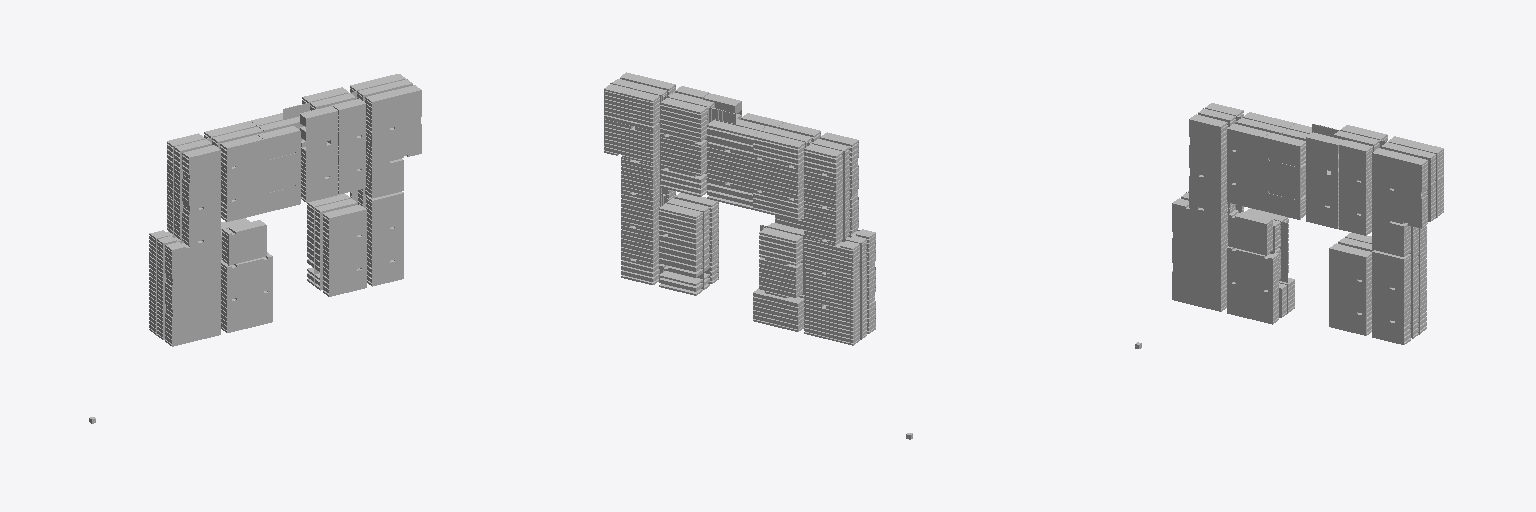
File: MAG_ArkivenesHus.obj
The picture shows the model from 3 angles: view 1: azimuth 30°, elevation 25°; view 2: azimuth 150°, elevation 25°; view 3: azimuth 330°, elevation 25°; orthographic projection.
Visible parts, largest first — view 1: Lys, Statsarkivet, Stavanger_kommu, IKA_Rogaland, Disponibelt, Arkivgulv, Misjonsarkivet; view 2: Stavanger_kommu, IKA_Rogaland, Statsarkivet, Spesialarkiv, Arkivgulv, Disponibelt; view 3: Lys, Statsarkivet, IKA_Rogaland, Stavanger_kommu, Disponibelt, Arkivgulv, Misjonsarkivet.
Boxes of the visible parts, x1=… form: Lys: x1=163, y1=83, x2=421, y2=346; Statsarkivet: x1=165, y1=85, x2=420, y2=345; Stavanger_kommu: x1=149, y1=87, x2=354, y2=339; IKA_Rogaland: x1=307, y1=74, x2=411, y2=289; Disponibelt: x1=222, y1=204, x2=365, y2=296; Arkivgulv: x1=156, y1=79, x2=407, y2=335; Misjonsarkivet: x1=366, y1=192, x2=403, y2=285; Stavanger_kommu: x1=660, y1=93, x2=866, y2=345; IKA_Rogaland: x1=604, y1=79, x2=709, y2=295; Statsarkivet: x1=620, y1=72, x2=875, y2=333; Spesialarkiv: x1=759, y1=223, x2=804, y2=297; Arkivgulv: x1=610, y1=83, x2=861, y2=339; Disponibelt: x1=675, y1=192, x2=804, y2=283; Lys: x1=1172, y1=113, x2=1430, y2=344; Statsarkivet: x1=1172, y1=114, x2=1427, y2=323; IKA_Rogaland: x1=1338, y1=136, x2=1443, y2=338; Stavanger_kommu: x1=1181, y1=103, x2=1387, y2=316; Disponibelt: x1=1229, y1=210, x2=1371, y2=334; Arkivgulv: x1=1186, y1=108, x2=1437, y2=334; Misjonsarkivet: x1=1372, y1=250, x2=1410, y2=344.
Bounding box in the file's own units: 70.51 × 59.82 × 9.56.